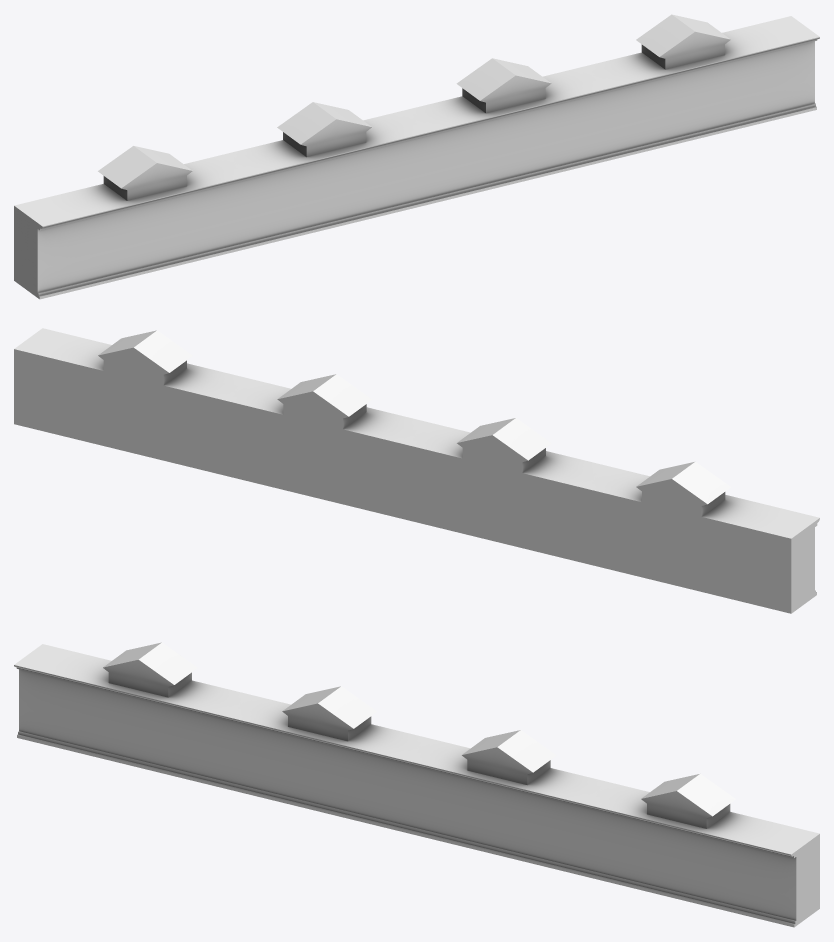
File: roof_3.glb
3 renders of one model, top to bottom at view 1: azimuth 30°, elevation 25°; view 2: azimuth 150°, elevation 25°; view 3: azimuth 330°, elevation 25°, orthographic.
Parts seen in each view (by area): view 1: roof_3; view 2: roof_3; view 3: roof_3.
Part boxes in pixels (box(x1,y1,x2,y2)): roof_3: box(14, 14, 819, 299); roof_3: box(14, 328, 819, 613); roof_3: box(14, 642, 819, 927).
Size of the model in its own units: 6.5 by 0.8453 by 0.4147.
Materials: 1 (1 with a texture image).
